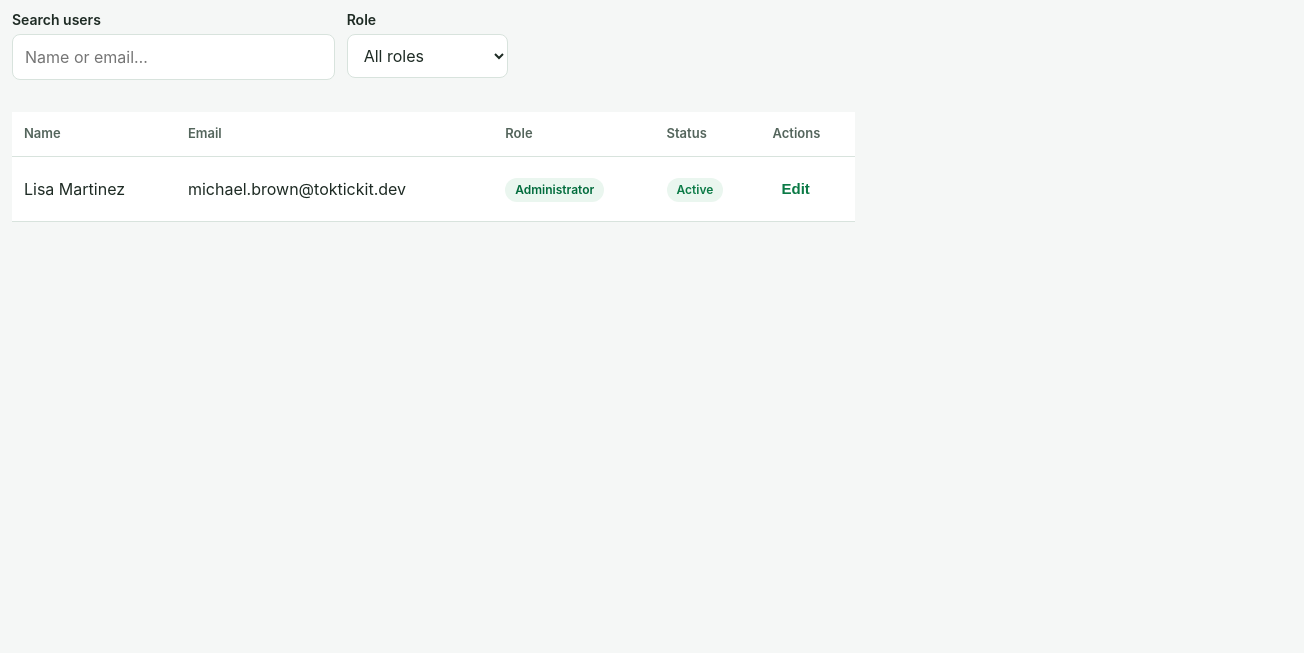
Scenario: UserManagement › shows the last-administrator refusal as a panel-level alert
This screenshot has width=1304, height=653.
Step 1. Click the button "Edit" → [796, 188], box [772,168,819,208]
(page scrolled)
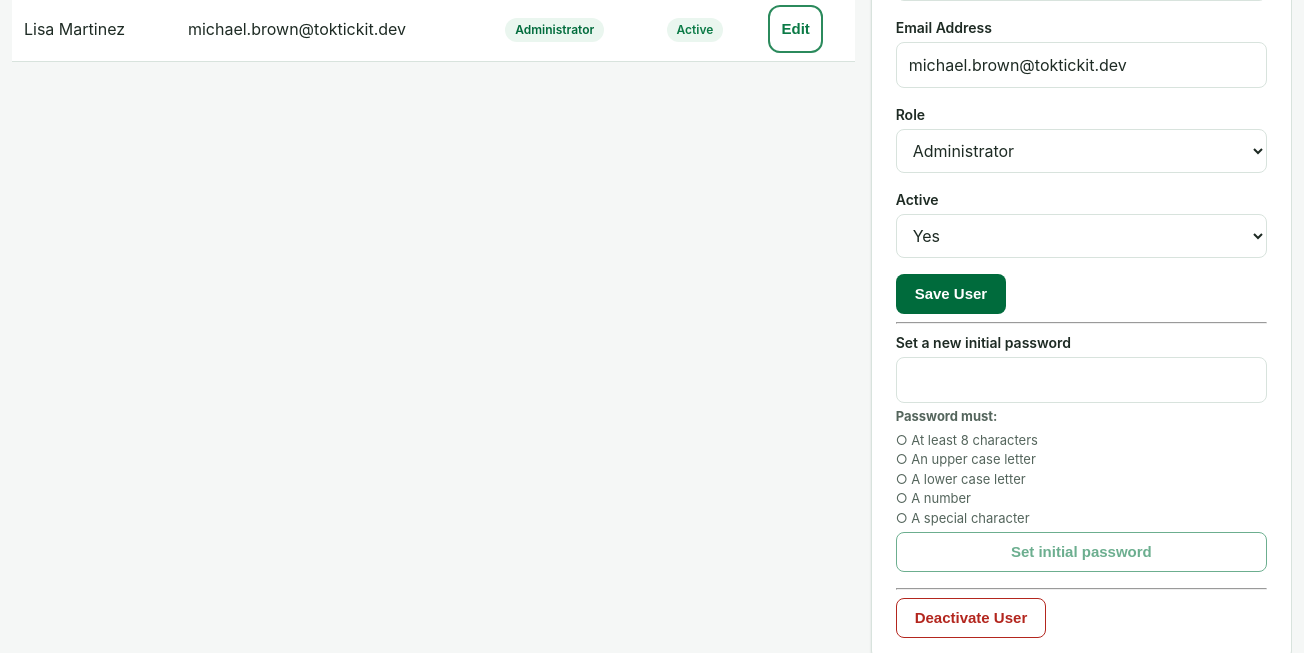
Step 2. Click the button "Deactivate User" → [971, 618], box [896,598,1046,638]
(page scrolled)
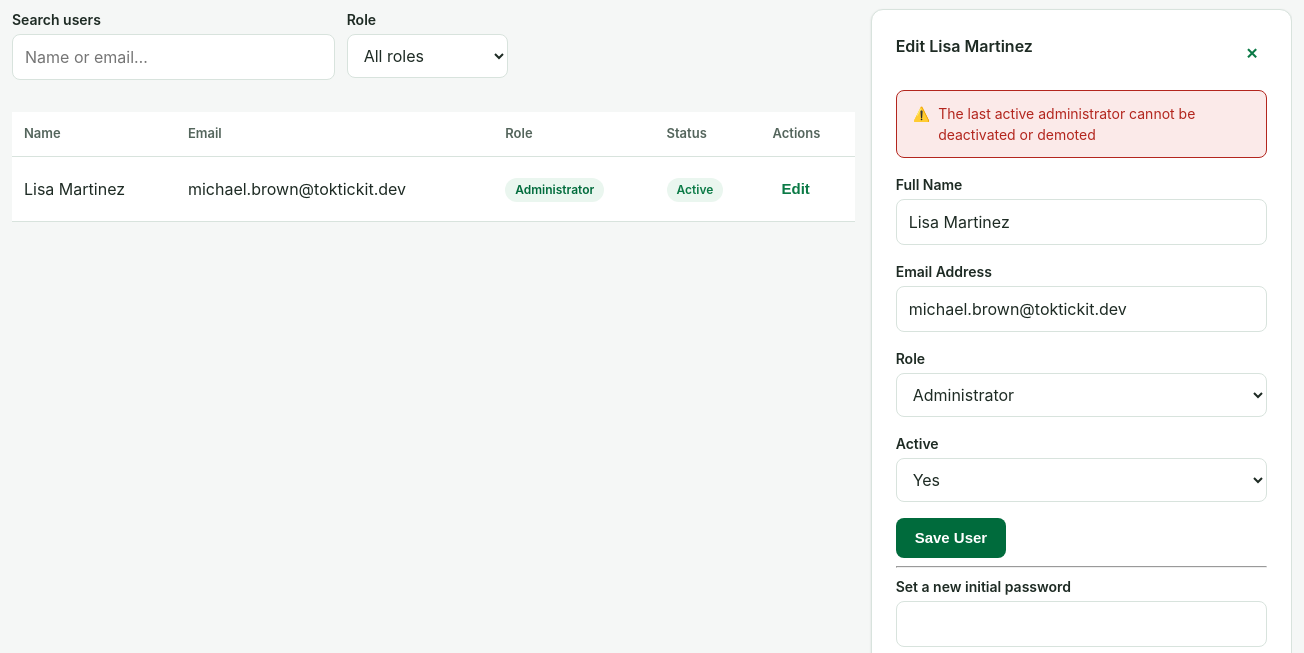
Now the message shows "last active administrator", box [938,105,1195,143]
